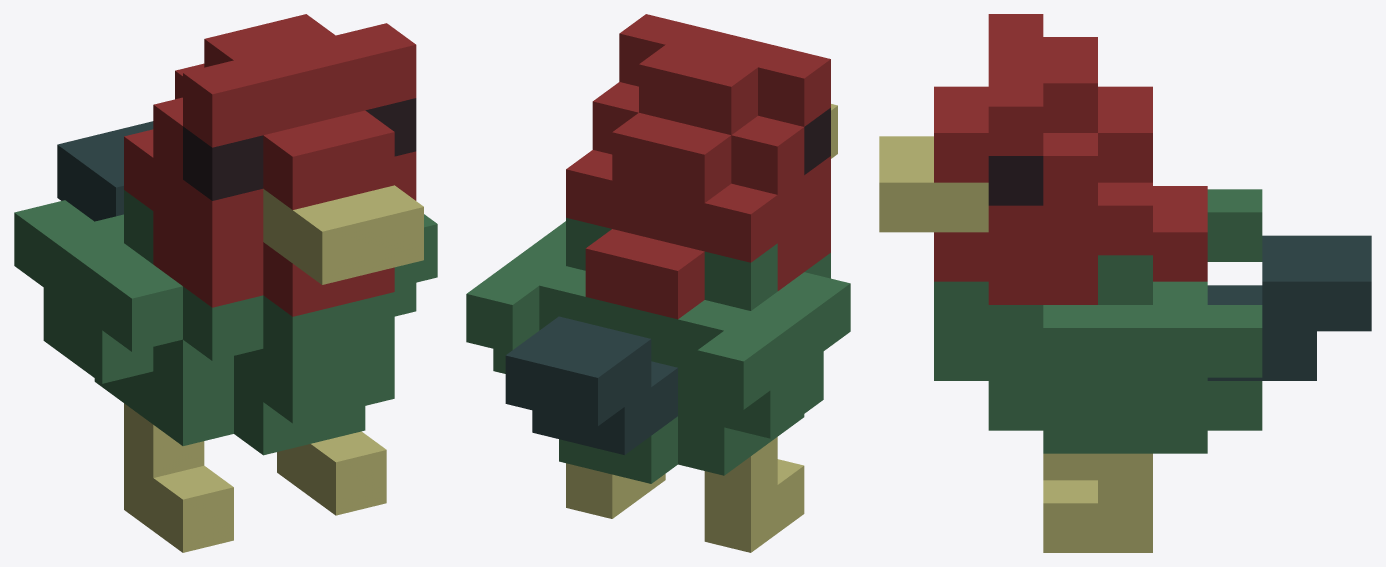
The model's file is Pollo_1.glb.
3 views of the same model, side by side, from view 1: azimuth 30°, elevation 25°; view 2: azimuth 150°, elevation 25°; view 3: azimuth 270°, elevation 25° (orthographic). The views are drawn at different scales.
Visible parts, largest first — view 1: Pollo-Gallus gallus; view 2: Pollo-Gallus gallus; view 3: Pollo-Gallus gallus.
Boxes of the visible parts, left/top/right/bottom form: Pollo-Gallus gallus: left=14, top=14, right=437, bottom=552; Pollo-Gallus gallus: left=466, top=14, right=850, bottom=552; Pollo-Gallus gallus: left=879, top=14, right=1371, bottom=552.
Bounding box in the file's own units: 6 × 9 × 9.
